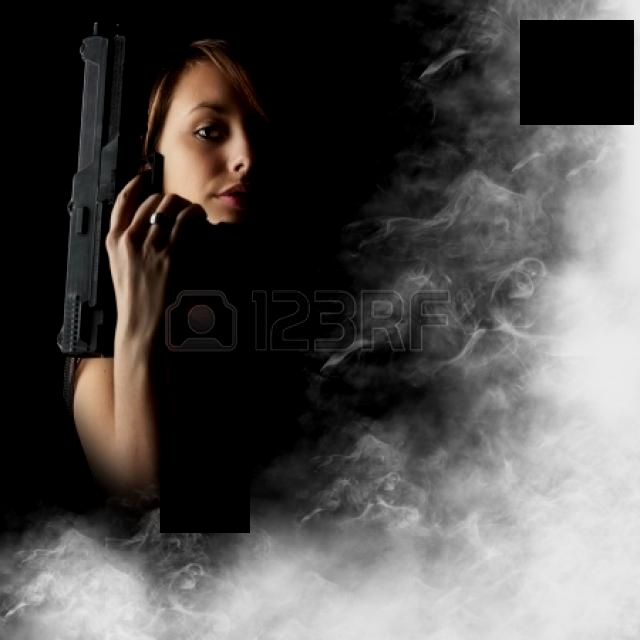gun: (50, 10, 215, 357)
